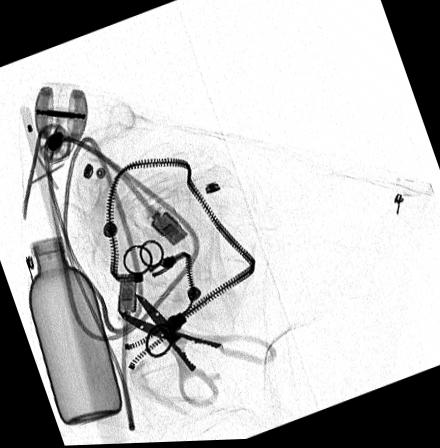Scissors: (117, 290, 280, 414)
